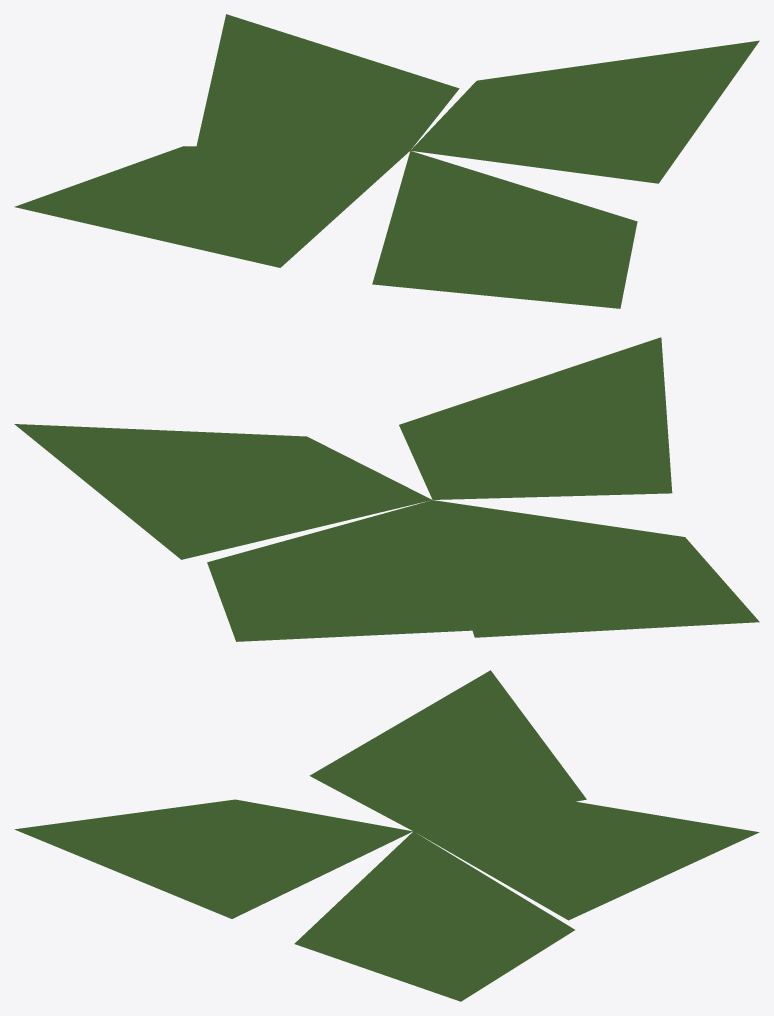
File: HerbPicked.fbx
3 views of the same model, one above another, from view 1: azimuth 30°, elevation 25°; view 2: azimuth 150°, elevation 25°; view 3: azimuth 270°, elevation 25° (orthographic). The views are drawn at different scales.
Parts seen in each view (by area): view 1: HerbPicked; view 2: HerbPicked; view 3: HerbPicked.
Part boxes in pixels (x1=…): HerbPicked: x1=14, y1=14, x2=759, y2=308; HerbPicked: x1=14, y1=337, x2=759, y2=641; HerbPicked: x1=14, y1=670, x2=759, y2=1001.
Size of the model in its own units: 0.4431 by 0.018 by 0.4213.
